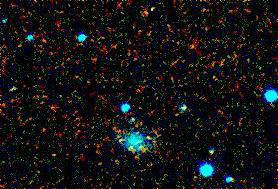star: (134, 124, 164, 154)
